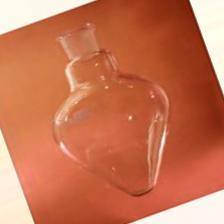Pear shaped flask: (46, 24, 169, 198)
